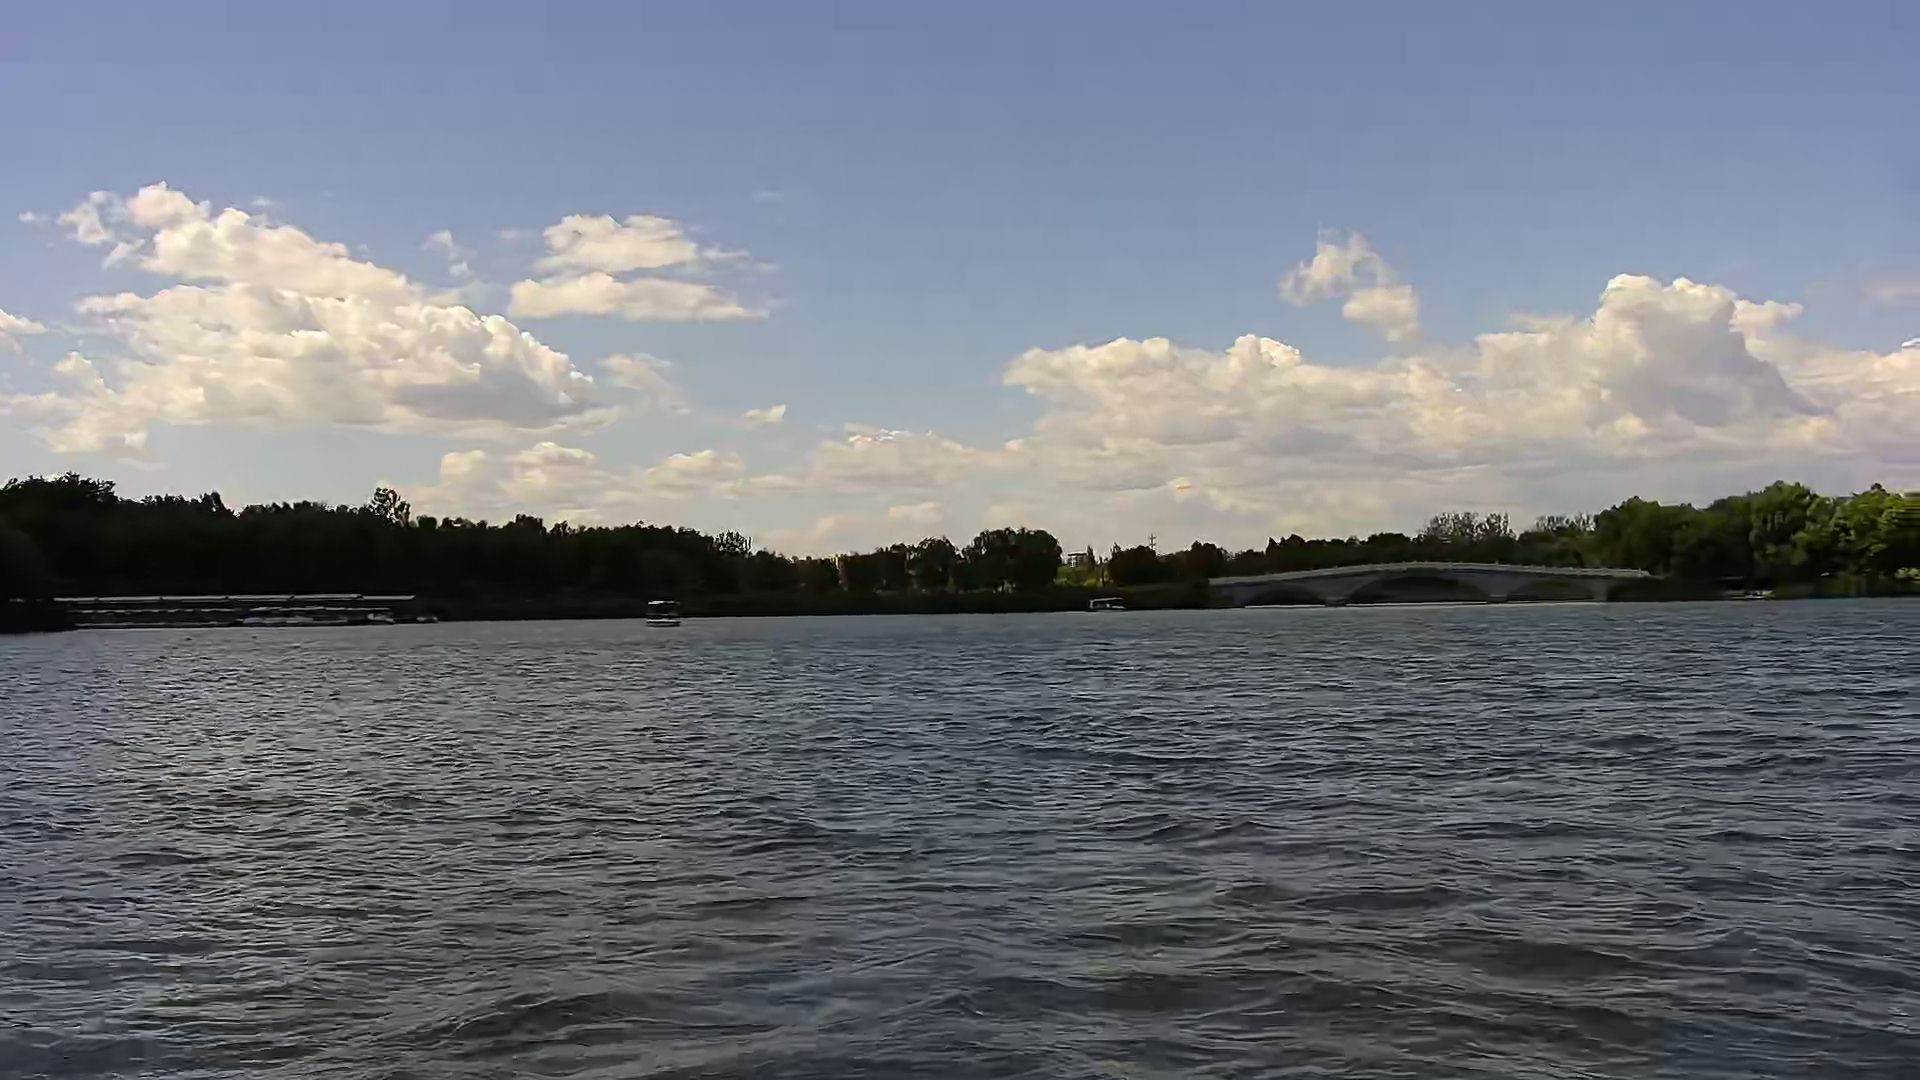boat: (638, 597, 688, 628)
bridge: (1211, 562, 1648, 607)
harbor: (51, 588, 431, 629)
